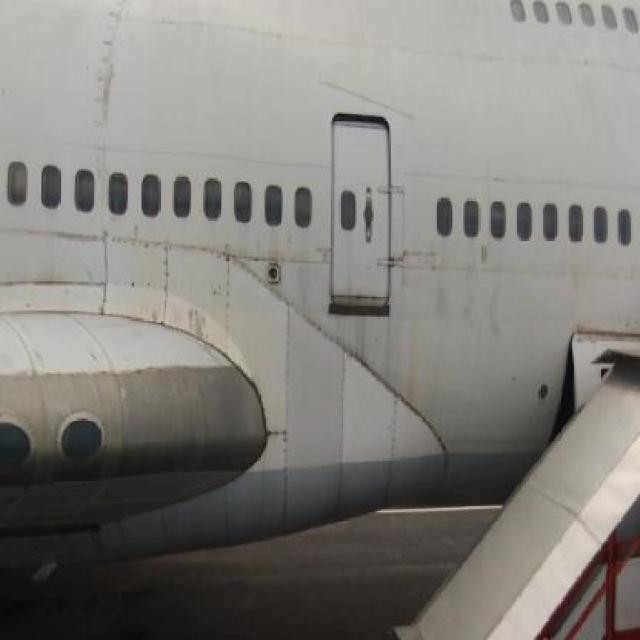Missing-Rivet: (218, 251, 237, 357), (155, 240, 170, 318), (263, 415, 295, 448)
Rust: (408, 290, 428, 412), (345, 310, 381, 364), (332, 273, 386, 307), (262, 236, 288, 262)
Scartch: (433, 271, 510, 340), (93, 40, 116, 142), (172, 296, 214, 339), (53, 218, 105, 250)
